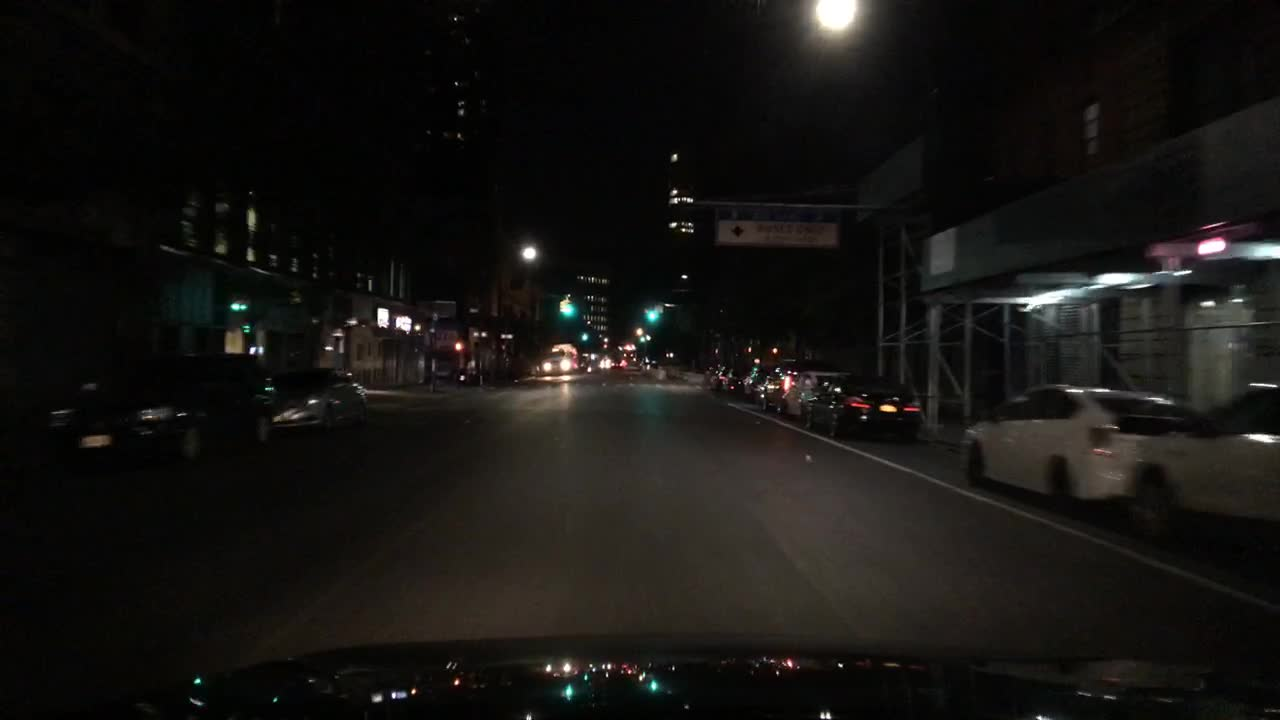car: (960, 380, 1200, 511), (47, 349, 275, 464), (1131, 381, 1279, 550), (799, 371, 922, 441), (272, 366, 366, 432), (778, 370, 835, 422), (754, 368, 797, 416), (736, 364, 766, 409), (716, 359, 749, 398), (703, 361, 729, 398), (539, 353, 573, 376), (621, 358, 643, 376), (596, 356, 612, 373)
traffic light: (555, 298, 565, 314), (563, 300, 572, 314), (768, 343, 777, 356), (454, 339, 464, 350), (577, 331, 587, 341), (648, 304, 655, 316)
traffic sign: (713, 207, 840, 250)
